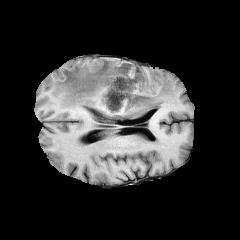glioma: (52, 60, 177, 119)
